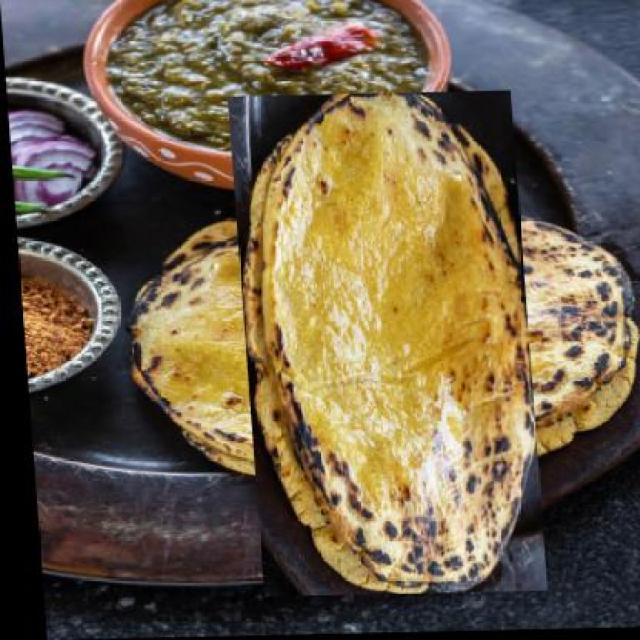chapati: (175, 145, 590, 547)
